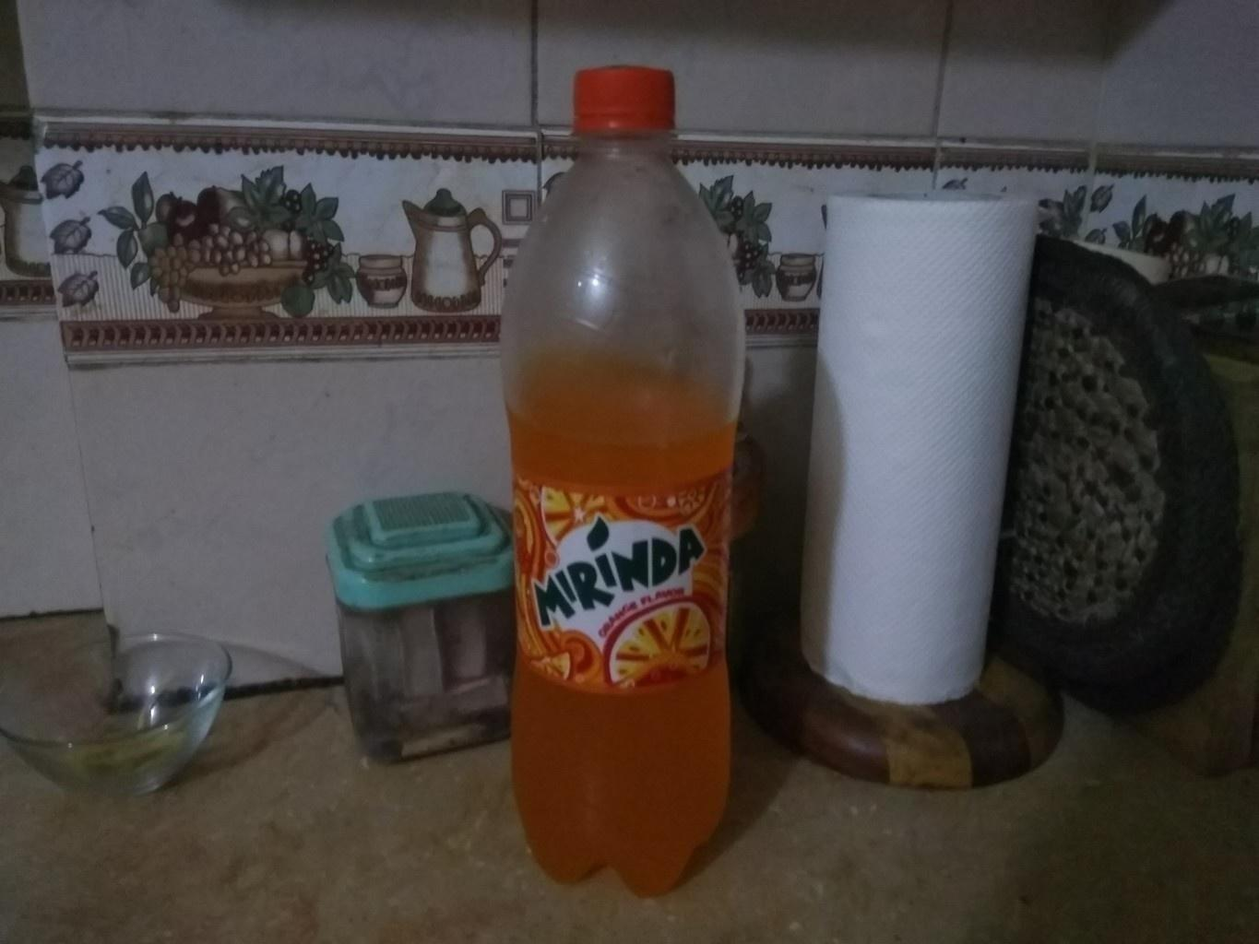bottle-plastic: (489, 63, 746, 903)
